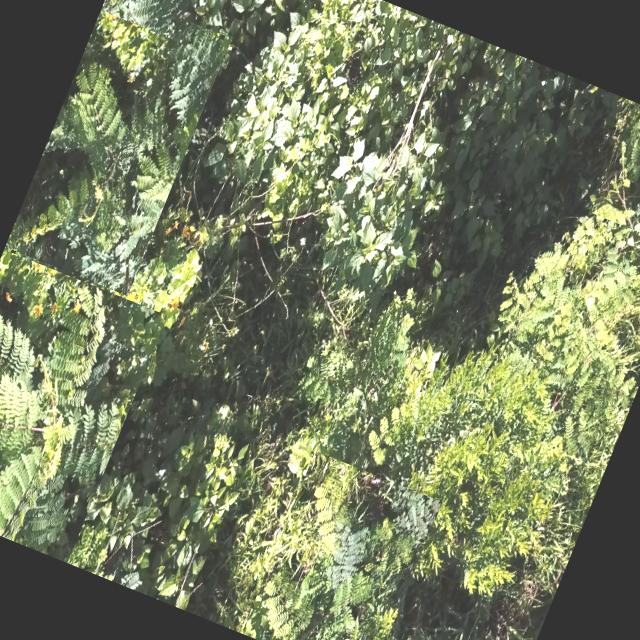Mysore-Thorn-Weed: (5, 0, 231, 296), (0, 249, 166, 562), (269, 268, 452, 489), (241, 450, 442, 640), (466, 211, 640, 430), (590, 101, 640, 253), (100, 0, 225, 43)
